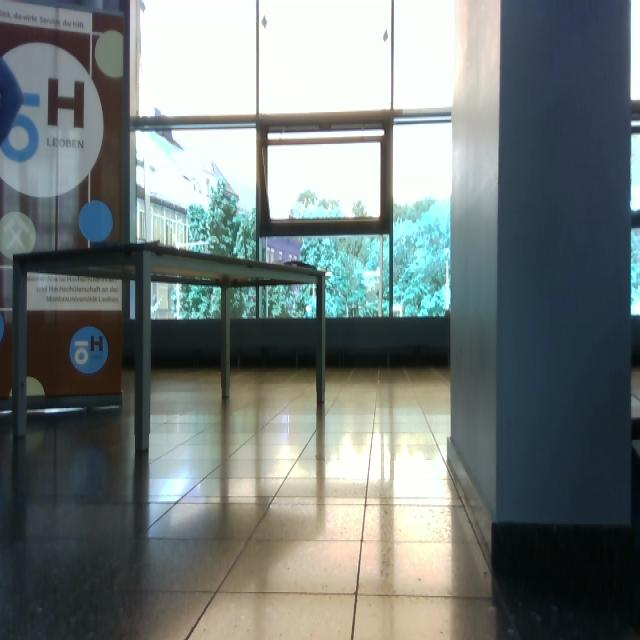door: (1, 1, 131, 416)
light bulb: (1, 56, 25, 146), (1, 210, 37, 260), (79, 200, 114, 244), (94, 29, 124, 80), (10, 376, 46, 400), (261, 16, 268, 29)
pillar: (448, 1, 634, 534)
table: (10, 240, 334, 457)
tiled floor: (2, 364, 499, 638)
window: (129, 1, 456, 324)
